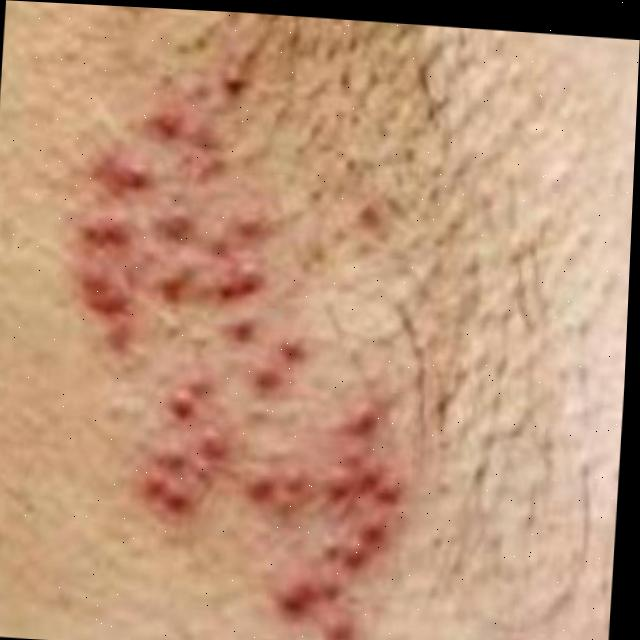Shingles: (50, 57, 418, 640)
